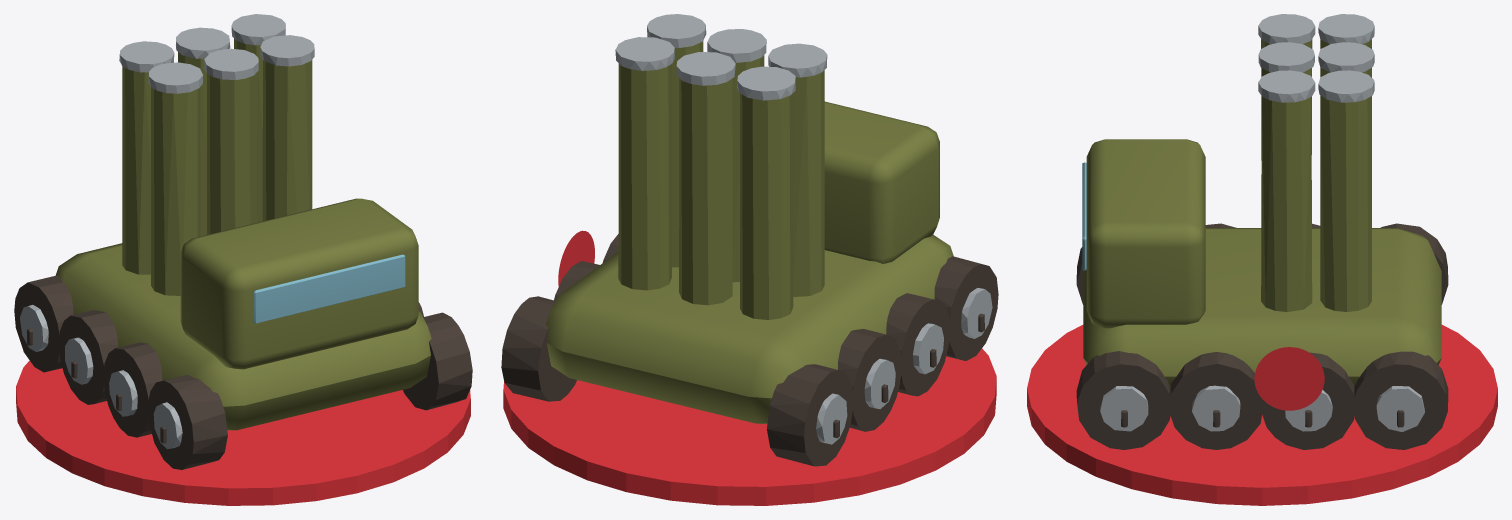
The model's file is japan_missile_lod0.glb.
3 renders of one model, left to right at view 1: azimuth 30°, elevation 25°; view 2: azimuth 150°, elevation 25°; view 3: azimuth 270°, elevation 25°, orthographic. The views are drawn at different scales.
Visible parts, largest first — view 1: body_hull, base_pedestal; view 2: body_hull, base_pedestal; view 3: body_hull, base_pedestal.
Boxes of the visible parts, box(x1,y1,x2,y2) form: body_hull: box(14, 14, 472, 469); base_pedestal: box(16, 360, 470, 505); body_hull: box(501, 14, 998, 466); base_pedestal: box(503, 348, 996, 505); body_hull: box(1076, 14, 1448, 449); base_pedestal: box(1027, 325, 1497, 505).
Bounding box in the file's own units: 0.78 × 0.6439 × 0.78.
